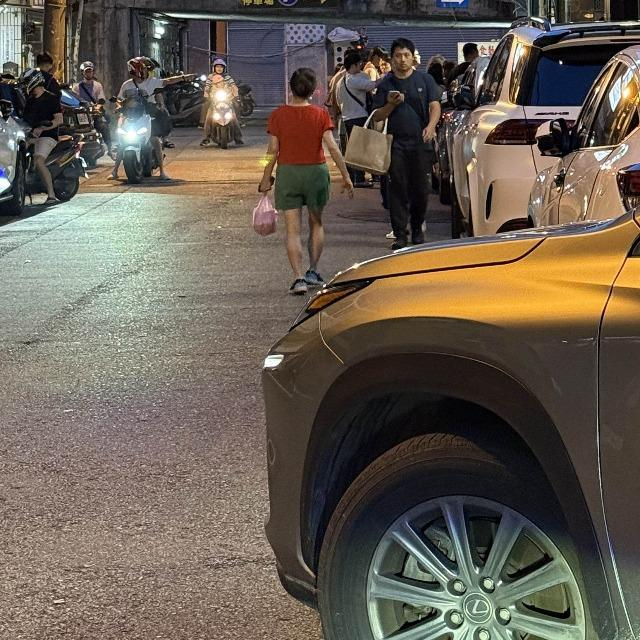NoHelmet: (385, 36, 420, 76)
NoVest: (265, 100, 335, 177)
